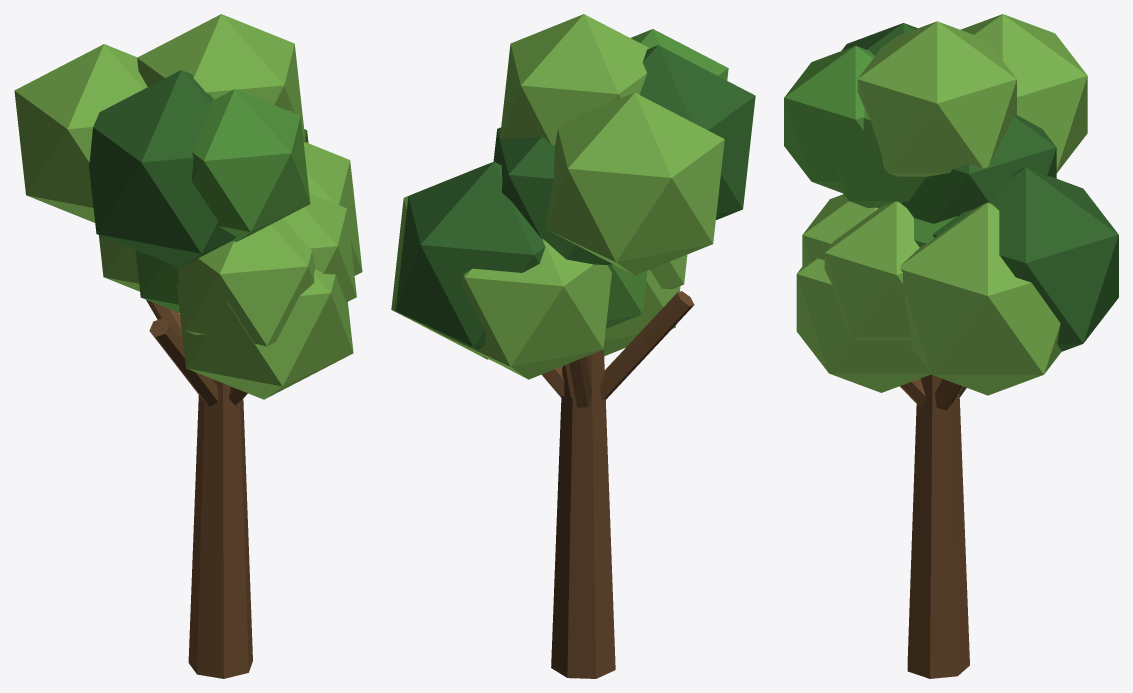
The model's file is arbre_prairie_1.glb.
The picture shows the model from 3 angles, left to right: view 1: azimuth 30°, elevation 25°; view 2: azimuth 150°, elevation 25°; view 3: azimuth 270°, elevation 25°; orthographic projection.
Parts seen in each view (by area): view 1: feuillage_feuille_claire.006, feuillage_feuille_sombre.012, tronc.012, feuillage_feuille.012, branches_ecorce.006; view 2: feuillage_feuille_claire.006, feuillage_feuille_sombre.012, tronc.012, branches_ecorce.006, feuillage_feuille.012; view 3: feuillage_feuille_claire.006, feuillage_feuille_sombre.012, tronc.012, feuillage_feuille.012, branches_ecorce.006.
Boxes of the visible parts, x1=… form: feuillage_feuille_claire.006: x1=14, y1=14, x2=362, y2=399; feuillage_feuille_sombre.012: x1=88, y1=70, x2=308, y2=267; tronc.012: x1=188, y1=379, x2=252, y2=678; feuillage_feuille.012: x1=135, y1=89, x2=310, y2=313; branches_ecorce.006: x1=146, y1=300, x2=247, y2=406; feuillage_feuille_claire.006: x1=391, y1=14, x2=724, y2=379; feuillage_feuille_sombre.012: x1=395, y1=45, x2=755, y2=356; tronc.012: x1=551, y1=347, x2=615, y2=678; branches_ecorce.006: x1=541, y1=291, x2=694, y2=407; feuillage_feuille.012: x1=606, y1=29, x2=728, y2=328; feuillage_feuille_claire.006: x1=796, y1=14, x2=1087, y2=395; feuillage_feuille_sombre.012: x1=841, y1=23, x2=1118, y2=351; tronc.012: x1=907, y1=374, x2=969, y2=678; feuillage_feuille.012: x1=784, y1=45, x2=957, y2=247; branches_ecorce.006: x1=900, y1=378, x2=966, y2=410.
Size of the model in its own units: 2.32 by 4.55 by 2.14.
